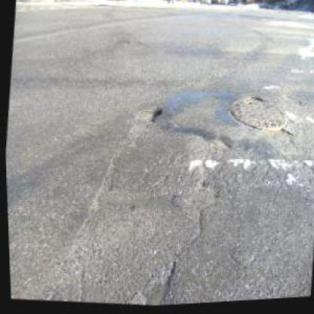Hueco: (135, 261, 176, 307), (134, 103, 162, 127)
